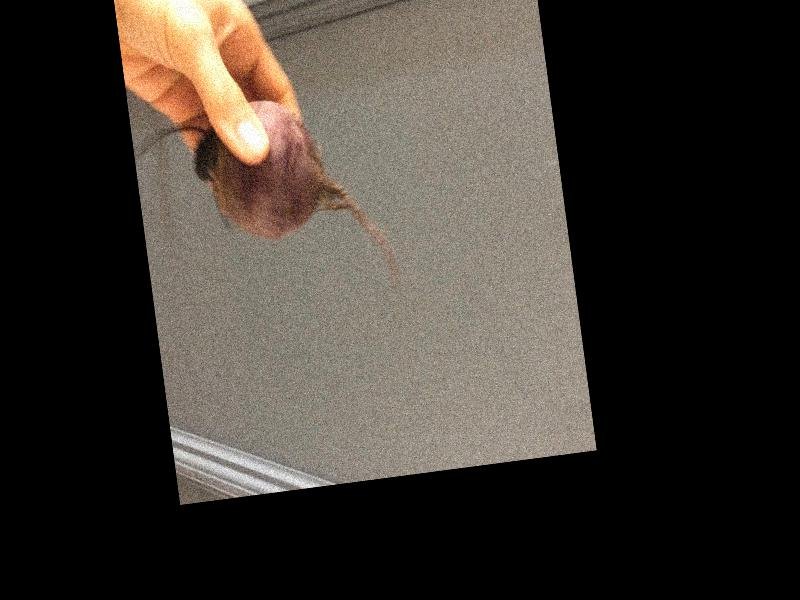Beet: (129, 86, 401, 325)
